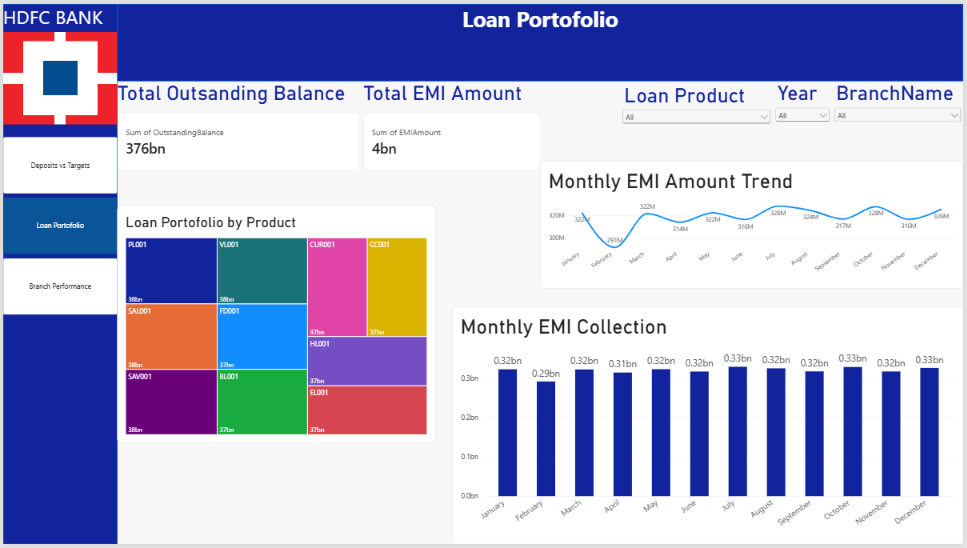

The page's visual inventory and layout, read from the dashboard file:
{"tool":"powerbi","page":{"name":"Loan Portofolio","canvas":[1920,1080],"ordinal":1},"visuals":[{"type":"cardVisual","title":"Total Outsanding Balance","fields":{"Data":["Sum(FactLoanRepayments.OutstandingBalance)"]},"box":[228,153.8,483.7,181.1],"z":0},{"type":"cardVisual","title":"Total EMI Amount","fields":{"Data":["Sum(FactLoanRepayments.EMIAmount)"]},"box":[720.2,153.8,354,181.1],"z":1000},{"type":"lineChart","title":"Monthly EMI Amount Trend","fields":{"Category":["DimDate.MonthName"],"Y":["Sum(FactLoanRepayments.EMIAmount)"]},"box":[1074.9,314.9,845.1,255.2],"z":3000},{"type":"slicer","fields":{"Values":["DimBranch.BranchName"]},"box":[1657.6,153.8,262.4,79.6],"z":4000},{"type":"slicer","fields":{"Values":["DimDate.Year"]},"box":[1540,153.8,117.6,90.5],"z":5000},{"type":"shape","box":[0,0,228.5,1080.6],"z":6000},{"type":"pageNavigator","box":[0,266,228.5,356.1],"z":7000},{"type":"textbox","box":[0,0,214.1,55.6],"z":8000},{"type":"shape","box":[228.1,0,1691.9,154.4],"z":9000},{"type":"textbox","box":[228,0,1692,77.8],"z":10000},{"type":"clusteredColumnChart","title":"Monthly EMI Collection","fields":{"Category":["DimDate.MonthName"],"Y":["Sum(FactLoanRepayments.EMIAmount)"]},"box":[897.6,606.2,1022.5,474.1],"z":10001},{"type":"slicer","fields":{"Values":["DimProduct.ProductCode"]},"box":[1234.2,157.4,305.8,86.9],"z":10002},{"type":"image","box":[0,56.1,228,184.6],"z":10003},{"type":"treemap","title":"Loan Portofolio by Product","fields":{"Group":["DimProduct.ProductCode"],"Values":["Sum(FactLoanRepayments.OutstandingBalance)"]},"box":[228,403.6,637,474.1],"z":10004}]}

Visuals, with their boxes on the page's 1920x1080 design canvas (x1, y1, x2, y2). These are canvas units, not pixel positions in the 967x548 screenshot, which may show the page scaled, cropped or inside an application window:
"Total Outsanding Balance" cardVisual: bbox(228, 154, 712, 335)
"Total EMI Amount" cardVisual: bbox(720, 154, 1074, 335)
"Monthly EMI Amount Trend" lineChart: bbox(1075, 315, 1920, 570)
slicer - DimBranch.BranchName: bbox(1658, 154, 1920, 233)
slicer - DimDate.Year: bbox(1540, 154, 1658, 244)
shape: bbox(0, 0, 228, 1081)
pageNavigator: bbox(0, 266, 228, 622)
textbox: bbox(0, 0, 214, 56)
shape: bbox(228, 0, 1920, 154)
textbox: bbox(228, 0, 1920, 78)
"Monthly EMI Collection" clusteredColumnChart: bbox(898, 606, 1920, 1080)
slicer - DimProduct.ProductCode: bbox(1234, 157, 1540, 244)
image: bbox(0, 56, 228, 241)
"Loan Portofolio by Product" treemap: bbox(228, 404, 865, 878)
